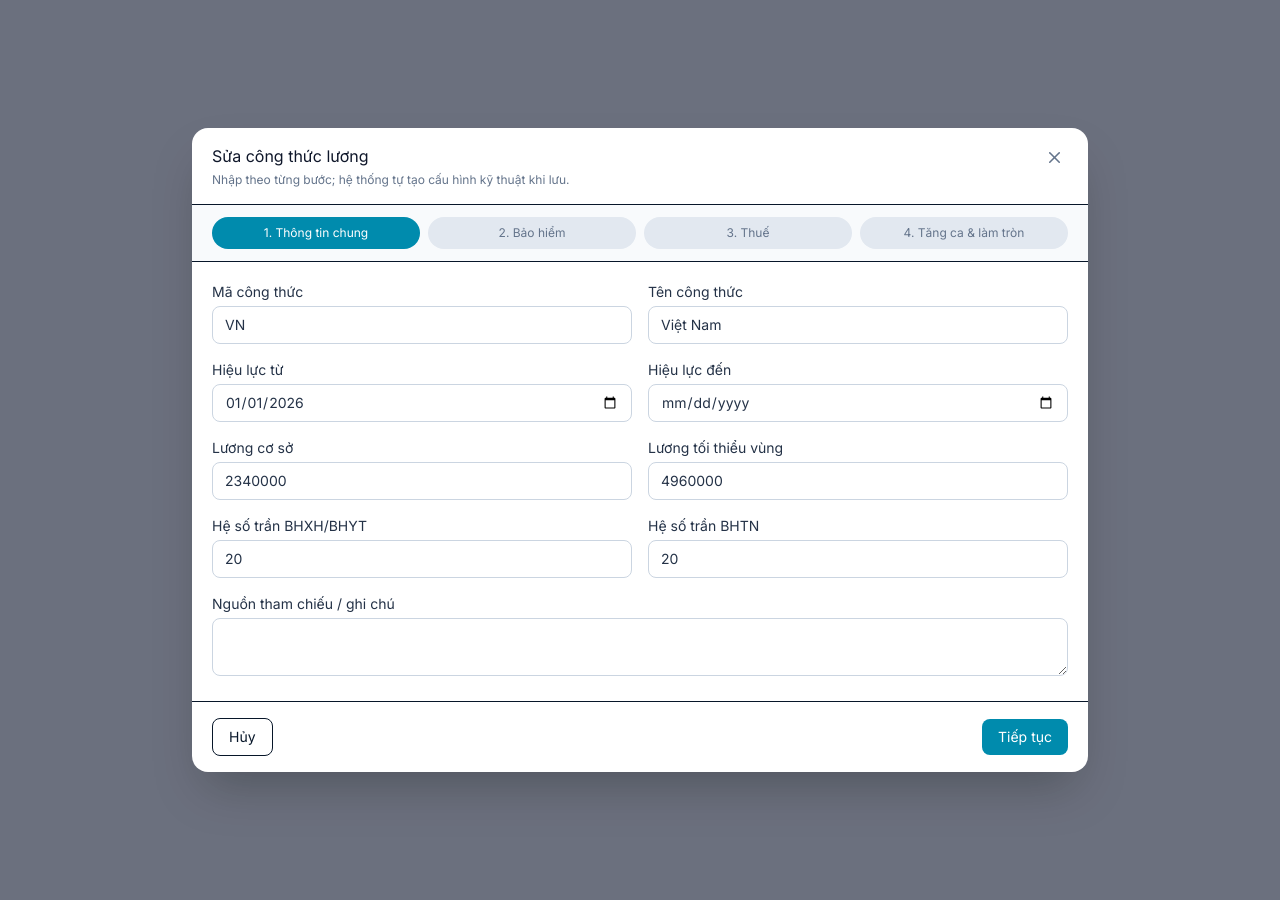
Test: PayrollPolicyFormModal › shows field-level errors when insurance cap multipliers are zero
The width and height of the screenshot is (1280, 900).
Replace the text in the number field labelled "Hệ số trần BHXH/BHYT" with "0" at {"x": 422, "y": 559}, box left=212, top=540, right=632, bottom=578
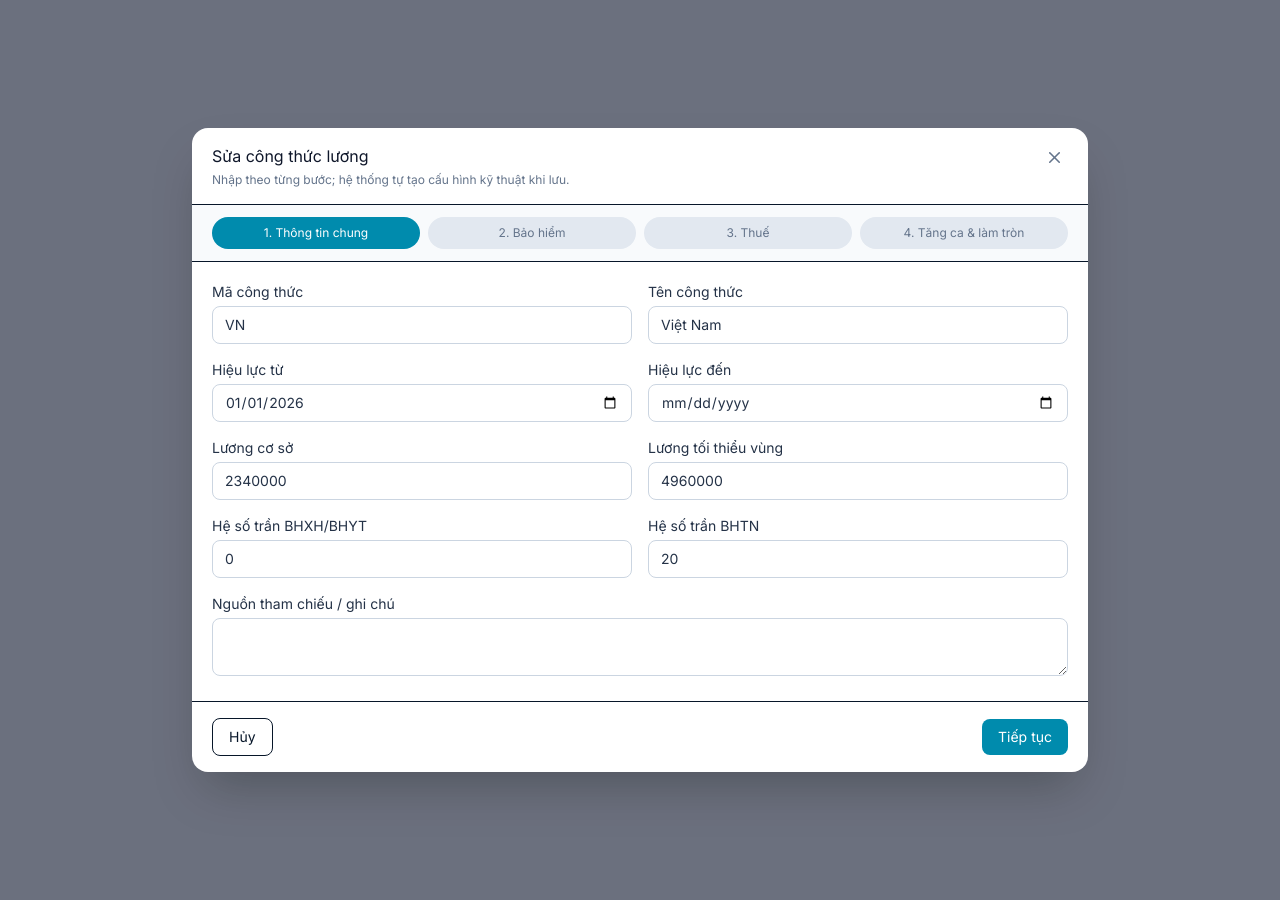
Replace the text in the number field labelled "Hệ số trần BHTN" with "0" at {"x": 858, "y": 559}, box left=648, top=540, right=1068, bottom=578
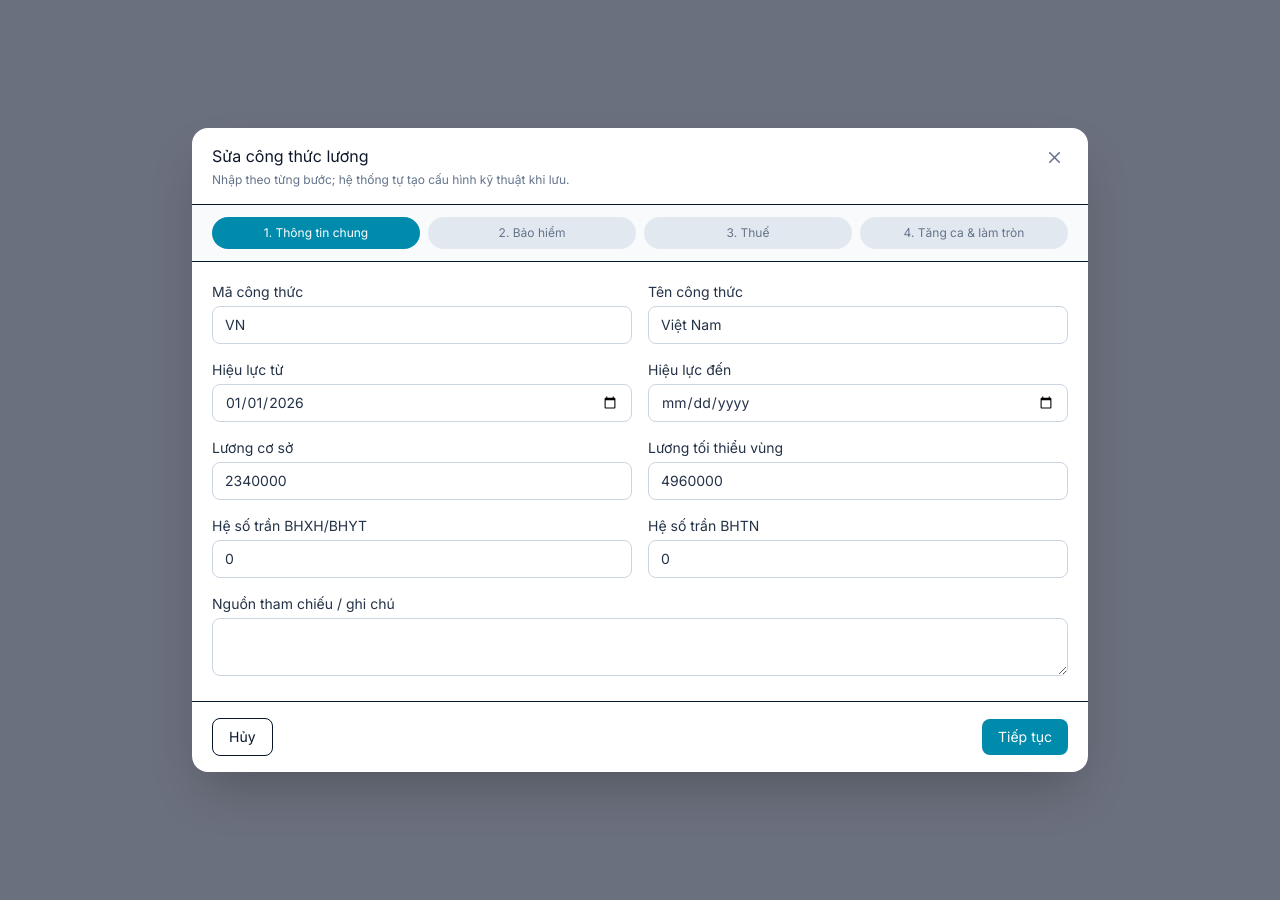
Click the button "Tiếp tục".
click(1025, 737)  # box left=982, top=719, right=1068, bottom=755
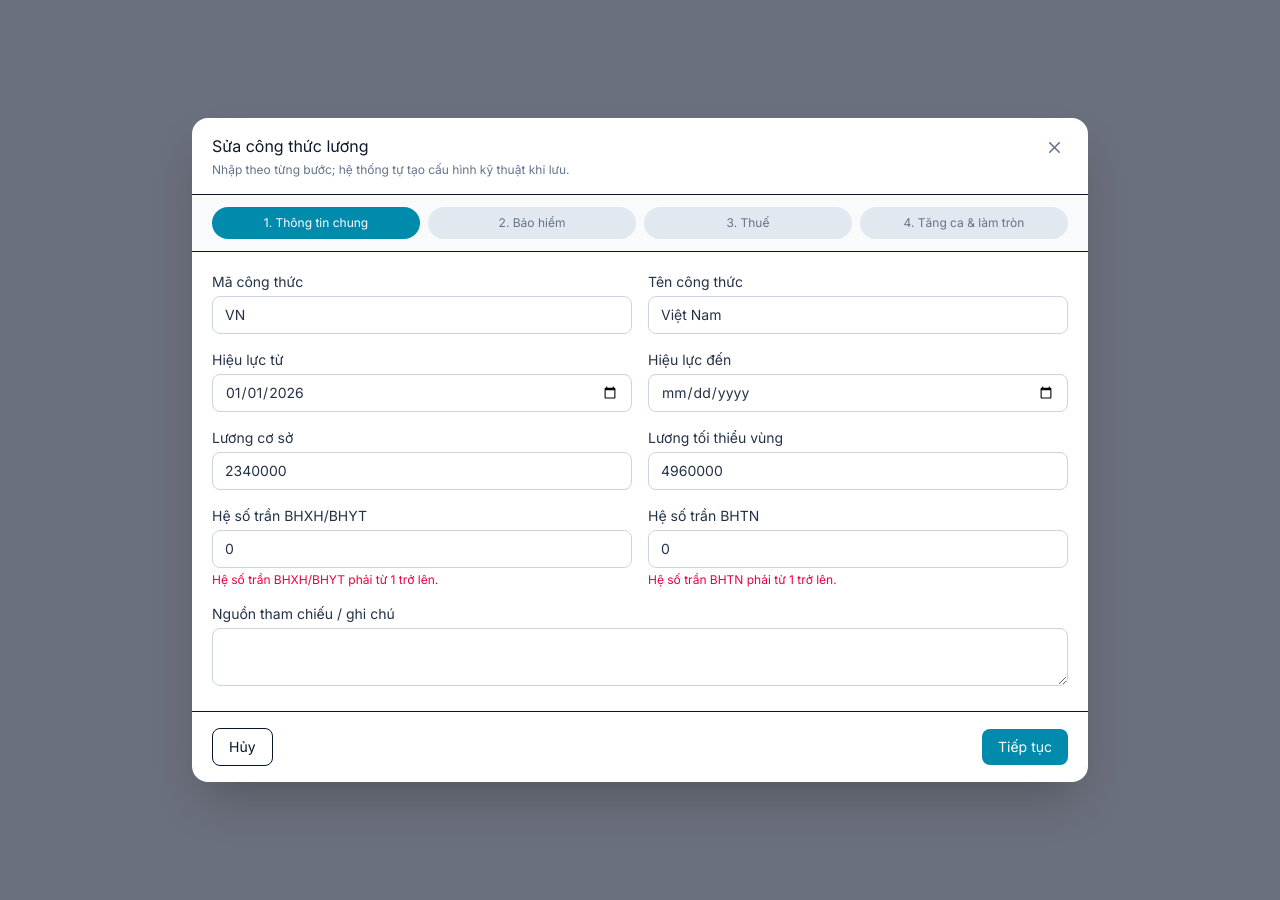
Now the text "Hệ số trần BHXH/BHYT phải từ 1 trở lên." is shown, box left=212, top=572, right=438, bottom=587
Now the text "Hệ số trần BHTN phải từ 1 trở lên." is shown, box left=648, top=572, right=837, bottom=587
